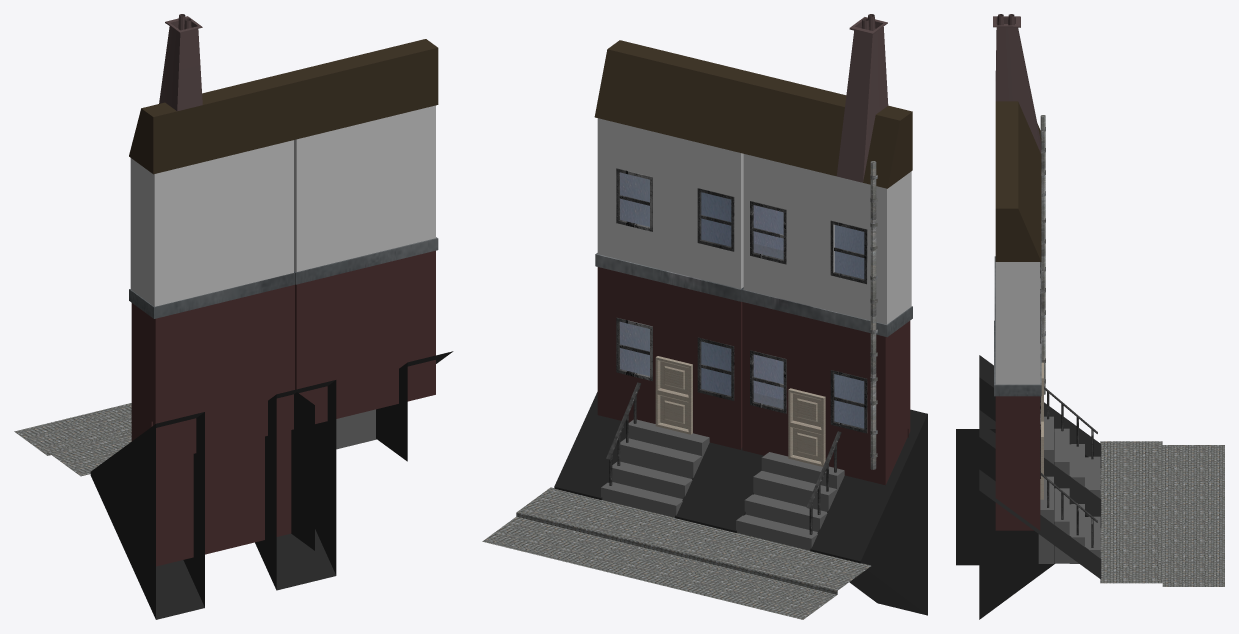
The model's file is obj_House_low.fbx.
The picture shows the model from 3 angles, left to right: view 1: azimuth 30°, elevation 25°; view 2: azimuth 150°, elevation 25°; view 3: azimuth 270°, elevation 25°; orthographic projection. The views are drawn at different scales.
Visible parts, largest first — view 1: House_B, House_A, RotateWall, Roof, Street_High, Rand, Schoorsteen, Stairs_L; view 2: House_A, House_B, Roof, Street_High, RotateWall, Windows, Stairs_L, Windowbars, Stairs_R, Schoorsteen, Doors, Rand (+3 smaller); view 3: Street_High, RotateWall, Roof, House_B, House_A, Schoorsteen, Stairs_L, Stairs_R, Pipes, Rand, Railing_L, Railing_R (+1 smaller).
Boxes of the visible parts, x1=… form: House_B: x1=131, y1=250, x2=435, y2=566; House_A: x1=130, y1=105, x2=435, y2=306; RotateWall: x1=90, y1=351, x2=453, y2=619; Roof: x1=129, y1=39, x2=438, y2=174; Street_High: x1=14, y1=403, x2=131, y2=476; Rand: x1=129, y1=237, x2=438, y2=318; Schoorsteen: x1=159, y1=14, x2=202, y2=111; Stairs_L: x1=336, y1=409, x2=376, y2=449; House_A: x1=597, y1=118, x2=911, y2=324; House_B: x1=597, y1=267, x2=910, y2=485; Roof: x1=594, y1=40, x2=912, y2=188; Street_High: x1=482, y1=487, x2=871, y2=619; RotateWall: x1=554, y1=392, x2=927, y2=615; Windows: x1=620, y1=172, x2=864, y2=428; Stairs_L: x1=601, y1=419, x2=709, y2=517; Windowbars: x1=616, y1=168, x2=867, y2=433; Stairs_R: x1=736, y1=452, x2=844, y2=550; Schoorsteen: x1=837, y1=14, x2=888, y2=182; Doors: x1=655, y1=356, x2=825, y2=466; Rand: x1=595, y1=253, x2=912, y2=337; Street_High: x1=1100, y1=441, x2=1224, y2=586; RotateWall: x1=956, y1=355, x2=1101, y2=619; Roof: x1=995, y1=101, x2=1041, y2=261; House_B: x1=995, y1=396, x2=1040, y2=530; House_A: x1=995, y1=262, x2=1040, y2=384; Schoorsteen: x1=993, y1=14, x2=1041, y2=153; Stairs_L: x1=1038, y1=476, x2=1100, y2=563; Stairs_R: x1=1044, y1=416, x2=1100, y2=498; Pipes: x1=1040, y1=115, x2=1045, y2=394; Rand: x1=994, y1=256, x2=1041, y2=396; Railing_L: x1=1041, y1=473, x2=1097, y2=547; Railing_R: x1=1044, y1=386, x2=1097, y2=459.
Size of the model in its own units: 87.05 by 155 by 69.6.
